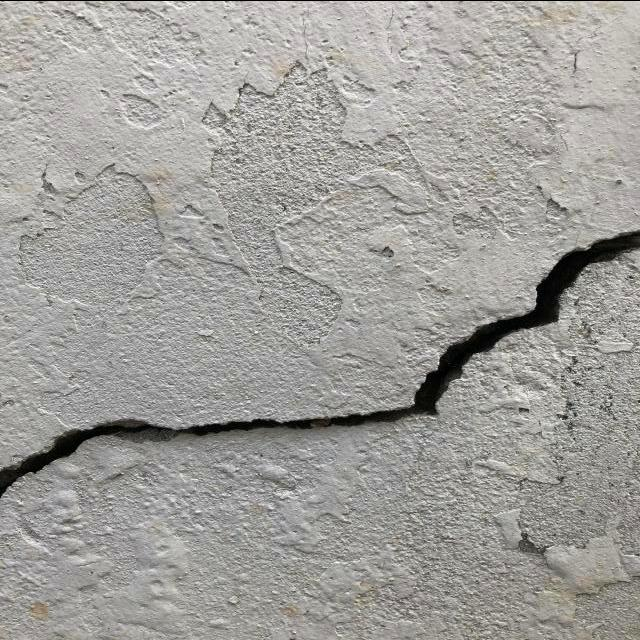SurfaceCrack: (0, 186, 639, 534)
